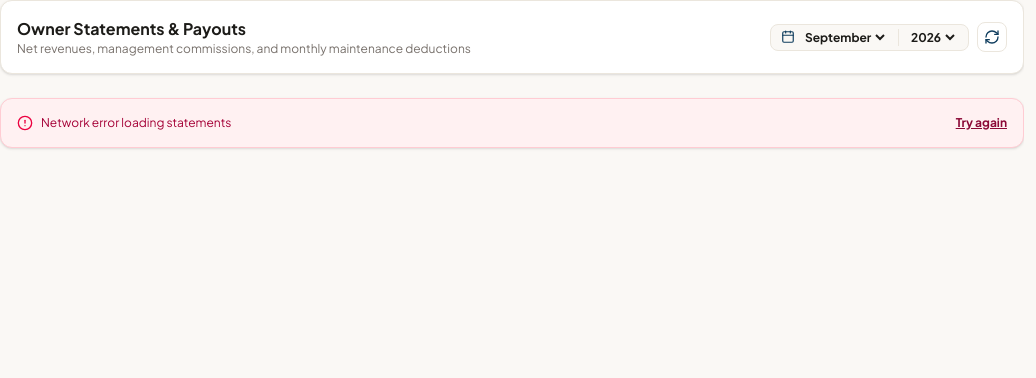
Test case: OwnerStatementsView Component › handles API error with retry button
This screenshot has width=1036, height=378.
Expected: the message shows "Network error loading statements", [41,115,232,130]
Click the button "Try again" at x=981, y=123, box [956,115,1007,131]
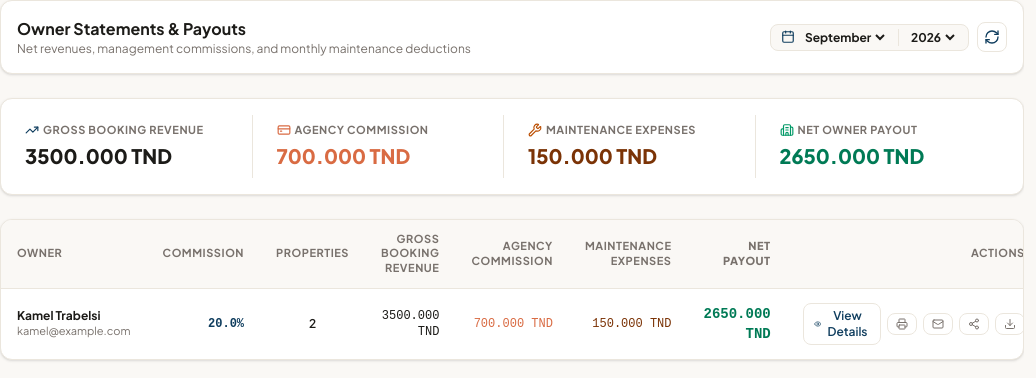
Now the text "Kamel Trabelsi" is shown, box [17,308,100,323]
